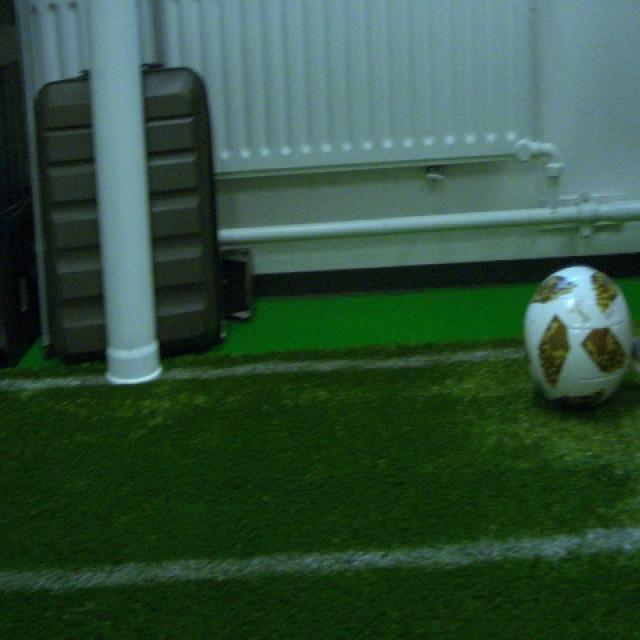ball: (525, 266, 631, 410)
goalpost: (90, 3, 165, 388)
